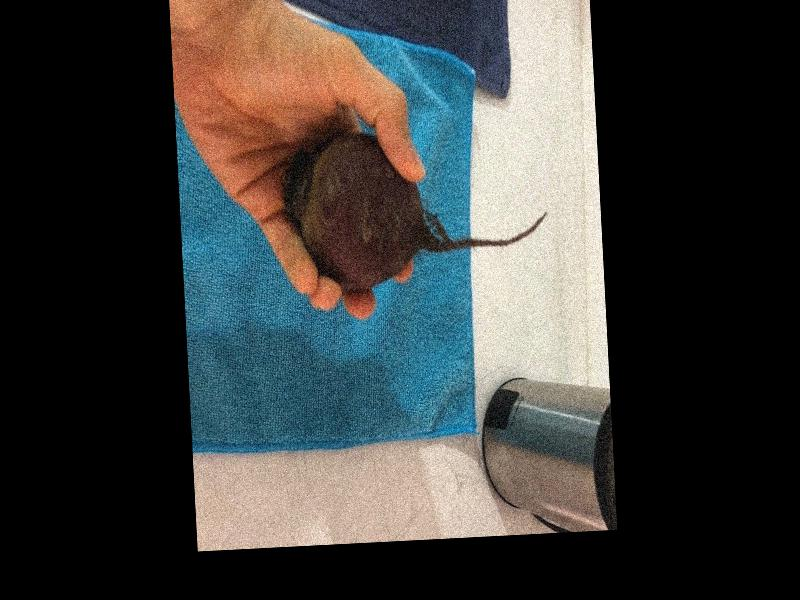Beet: (279, 123, 549, 294)
